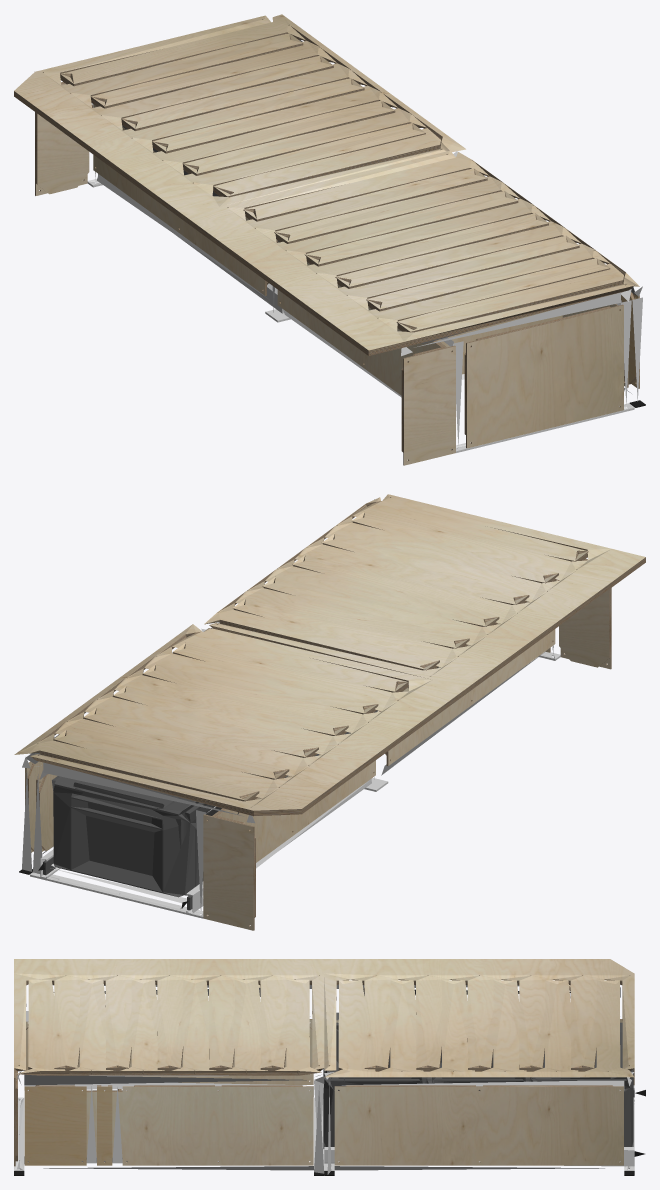
The model's file is aluminum-bed-birch.glb.
The picture shows the model from 3 angles, top to bottom: view 1: azimuth 30°, elevation 25°; view 2: azimuth 150°, elevation 25°; view 3: azimuth 270°, elevation 25°; orthographic projection. The views are drawn at different scales.
Visible parts, largest first — view 1: Furniture AO atlas; view 2: Furniture AO atlas; view 3: Furniture AO atlas.
Part boxes in pixels (x1,y1,x2,y2): Furniture AO atlas: (14, 14, 645, 465); Furniture AO atlas: (14, 494, 645, 930); Furniture AO atlas: (14, 959, 645, 1175).
Bounding box in the file's own units: 0.7952 × 0.3335 × 1.83.
5 materials, 2 textured.
